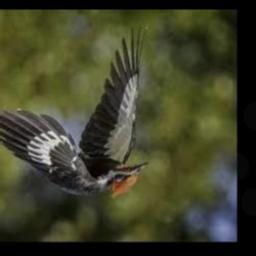Woodpecker: (0, 25, 147, 199)
